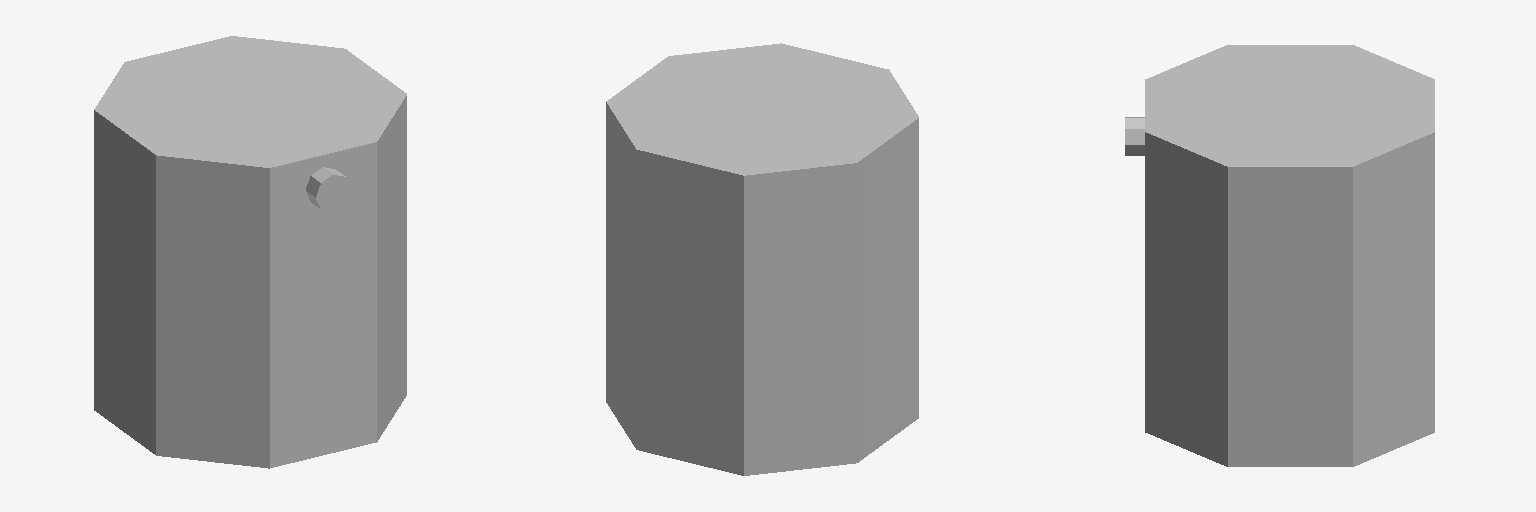
Rendered from tank_container.obj.
3 renders of one model, left to right at view 1: azimuth 30°, elevation 25°; view 2: azimuth 150°, elevation 25°; view 3: azimuth 270°, elevation 25°, orthographic.
Visible parts, largest first — view 1: Cylinder; view 2: Cylinder; view 3: Cylinder.
Boxes of the visible parts, x1=… form: Cylinder: x1=94, y1=36, x2=406, y2=468; Cylinder: x1=606, y1=43, x2=918, y2=475; Cylinder: x1=1125, y1=45, x2=1434, y2=466.
Size of the model in its own units: 0.875 by 1 by 0.9375.